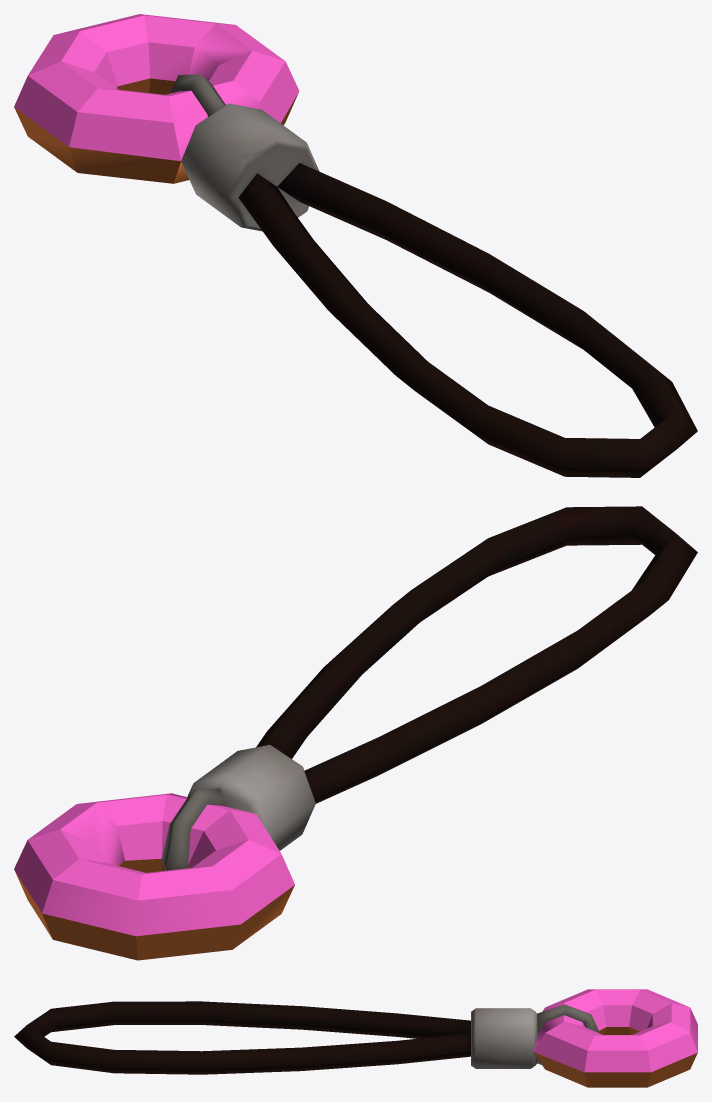
The model's file is Donut_charm.glb.
3 renders of one model, top to bottom at view 1: azimuth 30°, elevation 25°; view 2: azimuth 150°, elevation 25°; view 3: azimuth 270°, elevation 25°, orthographic. The views are drawn at different scales.
Parts seen in each view (by area): view 1: SubMesh_0.002; view 2: SubMesh_0.002; view 3: SubMesh_0.002.
Boxes of the visible parts, x1,y1,x2,y2 form: SubMesh_0.002: [14, 14, 697, 477]; SubMesh_0.002: [14, 506, 697, 960]; SubMesh_0.002: [14, 989, 697, 1087].
Size of the model in its own units: 0.2475 by 0.1158 by 1.05.
Materials: 1 (1 with a texture image).
